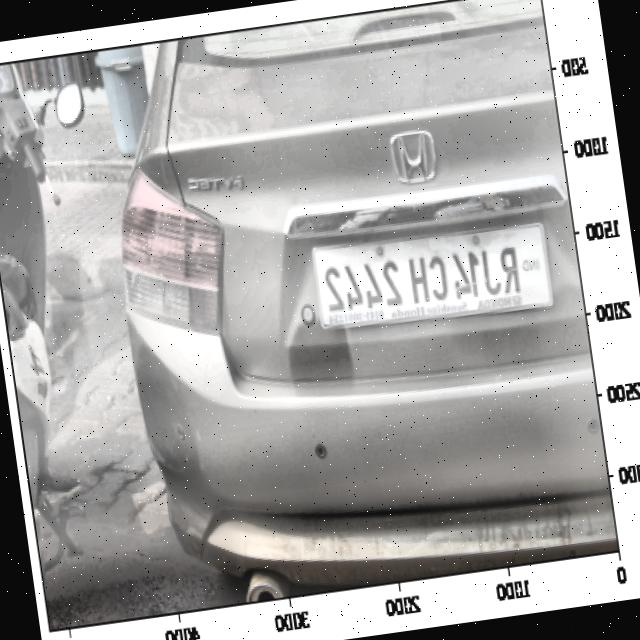license_plate: (316, 225, 537, 332)
